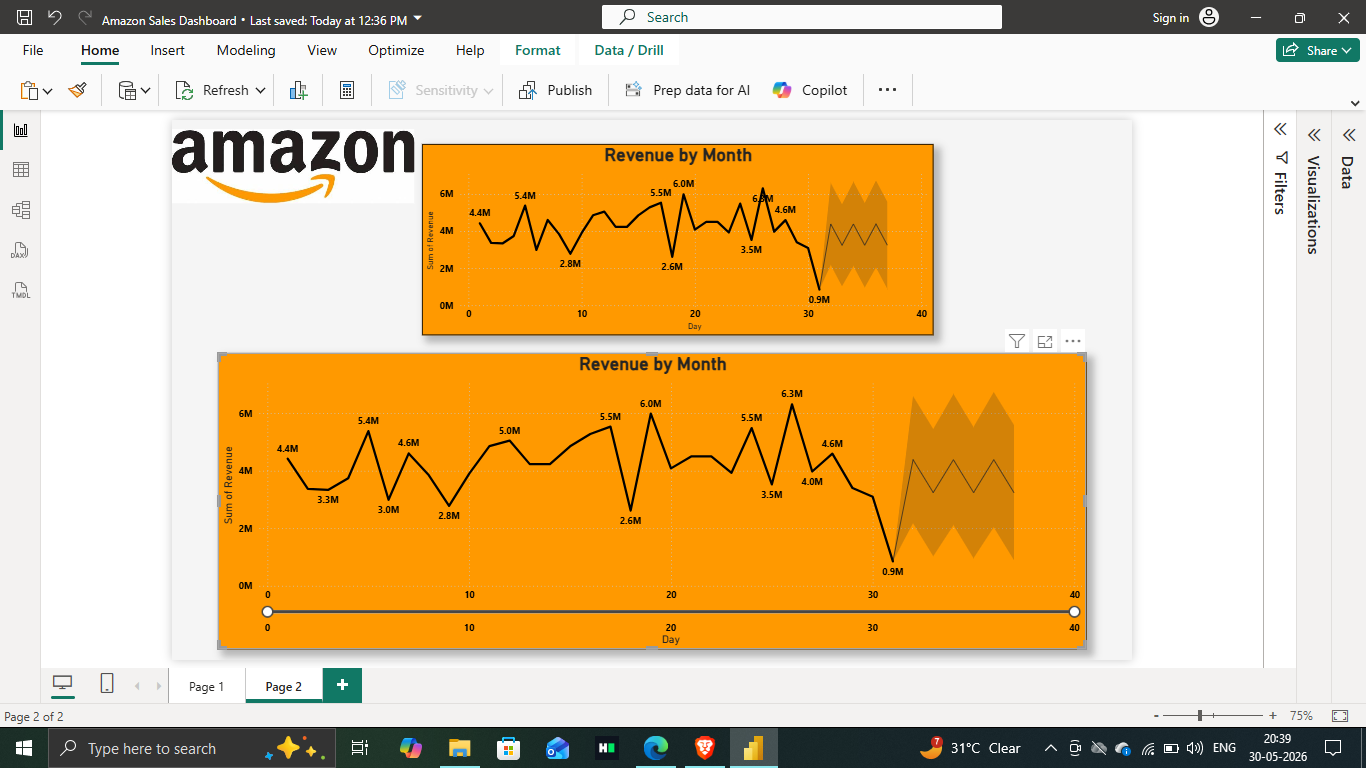

The dashboard page shown, as its layout file describes it:
{"tool":"powerbi","page":{"name":"Page 2","canvas":[1280,720],"ordinal":1},"visuals":[{"type":"image","box":[0,11.3,323.1,99.2],"z":0},{"type":"lineChart","title":" Revenue by Month","fields":{"Y":["Sum(Amazon_Global_Export_Cross_Border_Trade.Revenue)"],"Category":["Amazon_Global_Export_Cross_Border_Trade.Order_Date.Variation.Date Hierarchy.Day"]},"box":[333.1,32.6,681.7,255.1],"z":1},{"type":"lineChart","title":" Revenue by Month","fields":{"Y":["Sum(Amazon_Global_Export_Cross_Border_Trade.Revenue)"],"Category":["Amazon_Global_Export_Cross_Border_Trade.Order_Date.Variation.Date Hierarchy.Day"]},"box":[60.9,310.4,1158,395.4],"z":2}]}

Visuals, with their boxes on the page's 1280x720 design canvas (x1, y1, x2, y2). These are canvas units, not pixel positions in the 1366x768 screenshot, which may show the page scaled, cropped or inside an application window:
image: box=[0, 11, 323, 110]
" Revenue by Month" lineChart: box=[333, 33, 1015, 288]
" Revenue by Month" lineChart: box=[61, 310, 1219, 706]
